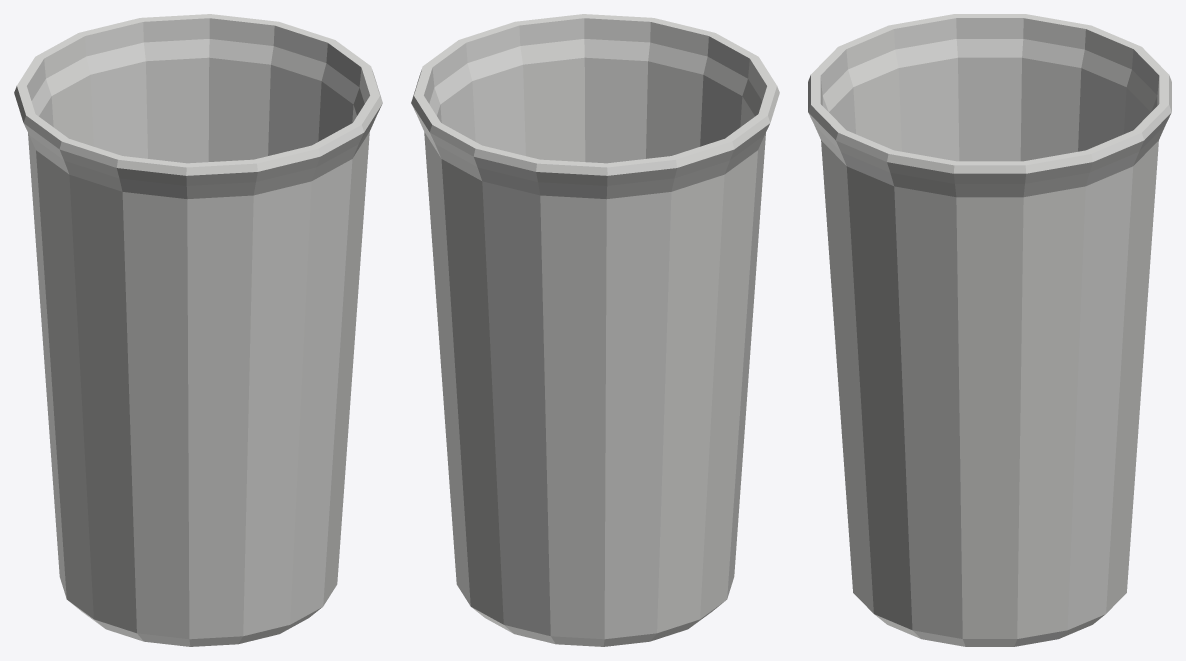
Rendered from SM_Cook_CupOpaque_01.fbx.
The picture shows the model from 3 angles, left to right: view 1: azimuth 30°, elevation 25°; view 2: azimuth 150°, elevation 25°; view 3: azimuth 270°, elevation 25°; orthographic projection.
Visible parts, largest first — view 1: SM_Cook_CupOpaque_01; view 2: SM_Cook_CupOpaque_01; view 3: SM_Cook_CupOpaque_01.
Boxes of the visible parts, x1,y1,x2,y2 form: SM_Cook_CupOpaque_01: (14,14,382,646); SM_Cook_CupOpaque_01: (411,14,779,646); SM_Cook_CupOpaque_01: (808,14,1171,646).
Bounding box in the file's own units: 0.0912 × 0.14 × 0.0912.
1 material, 1 textured.
